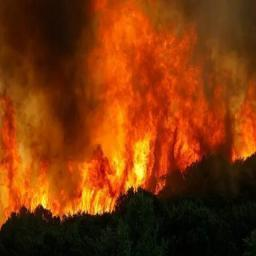Large fire: (0, 0, 255, 227)
